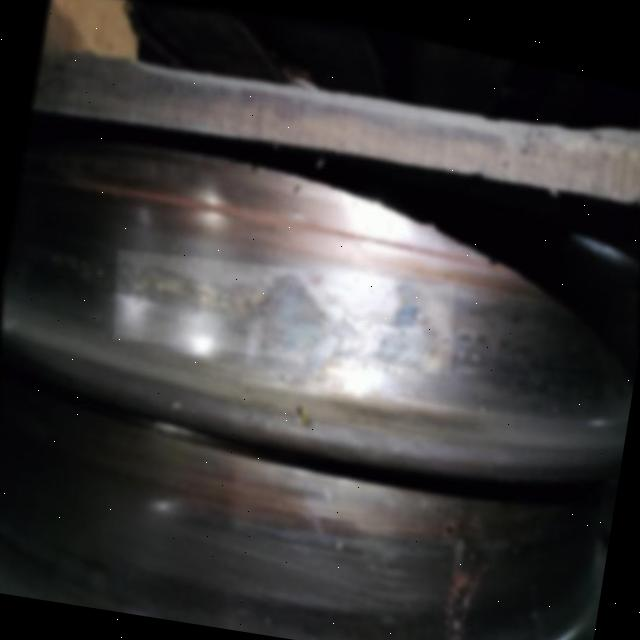Rollerpile: (100, 209, 469, 413)
